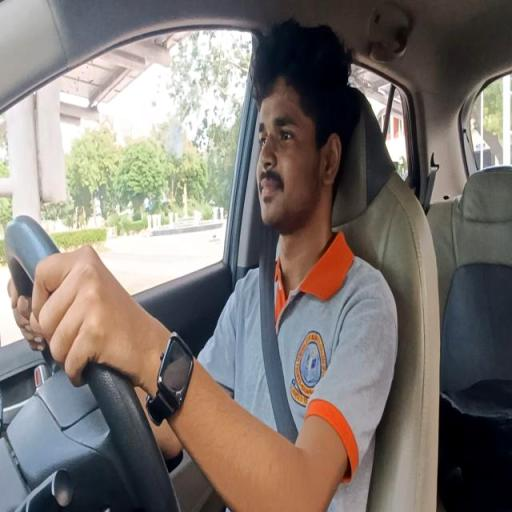Normal: (180, 20, 398, 495)
